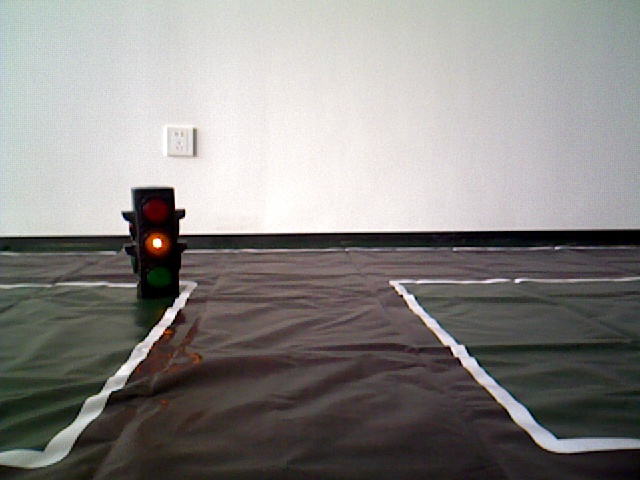yellow: (125, 183, 185, 297)
